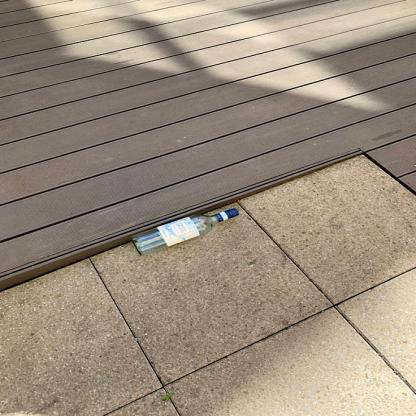trash: (130, 206, 241, 262)
